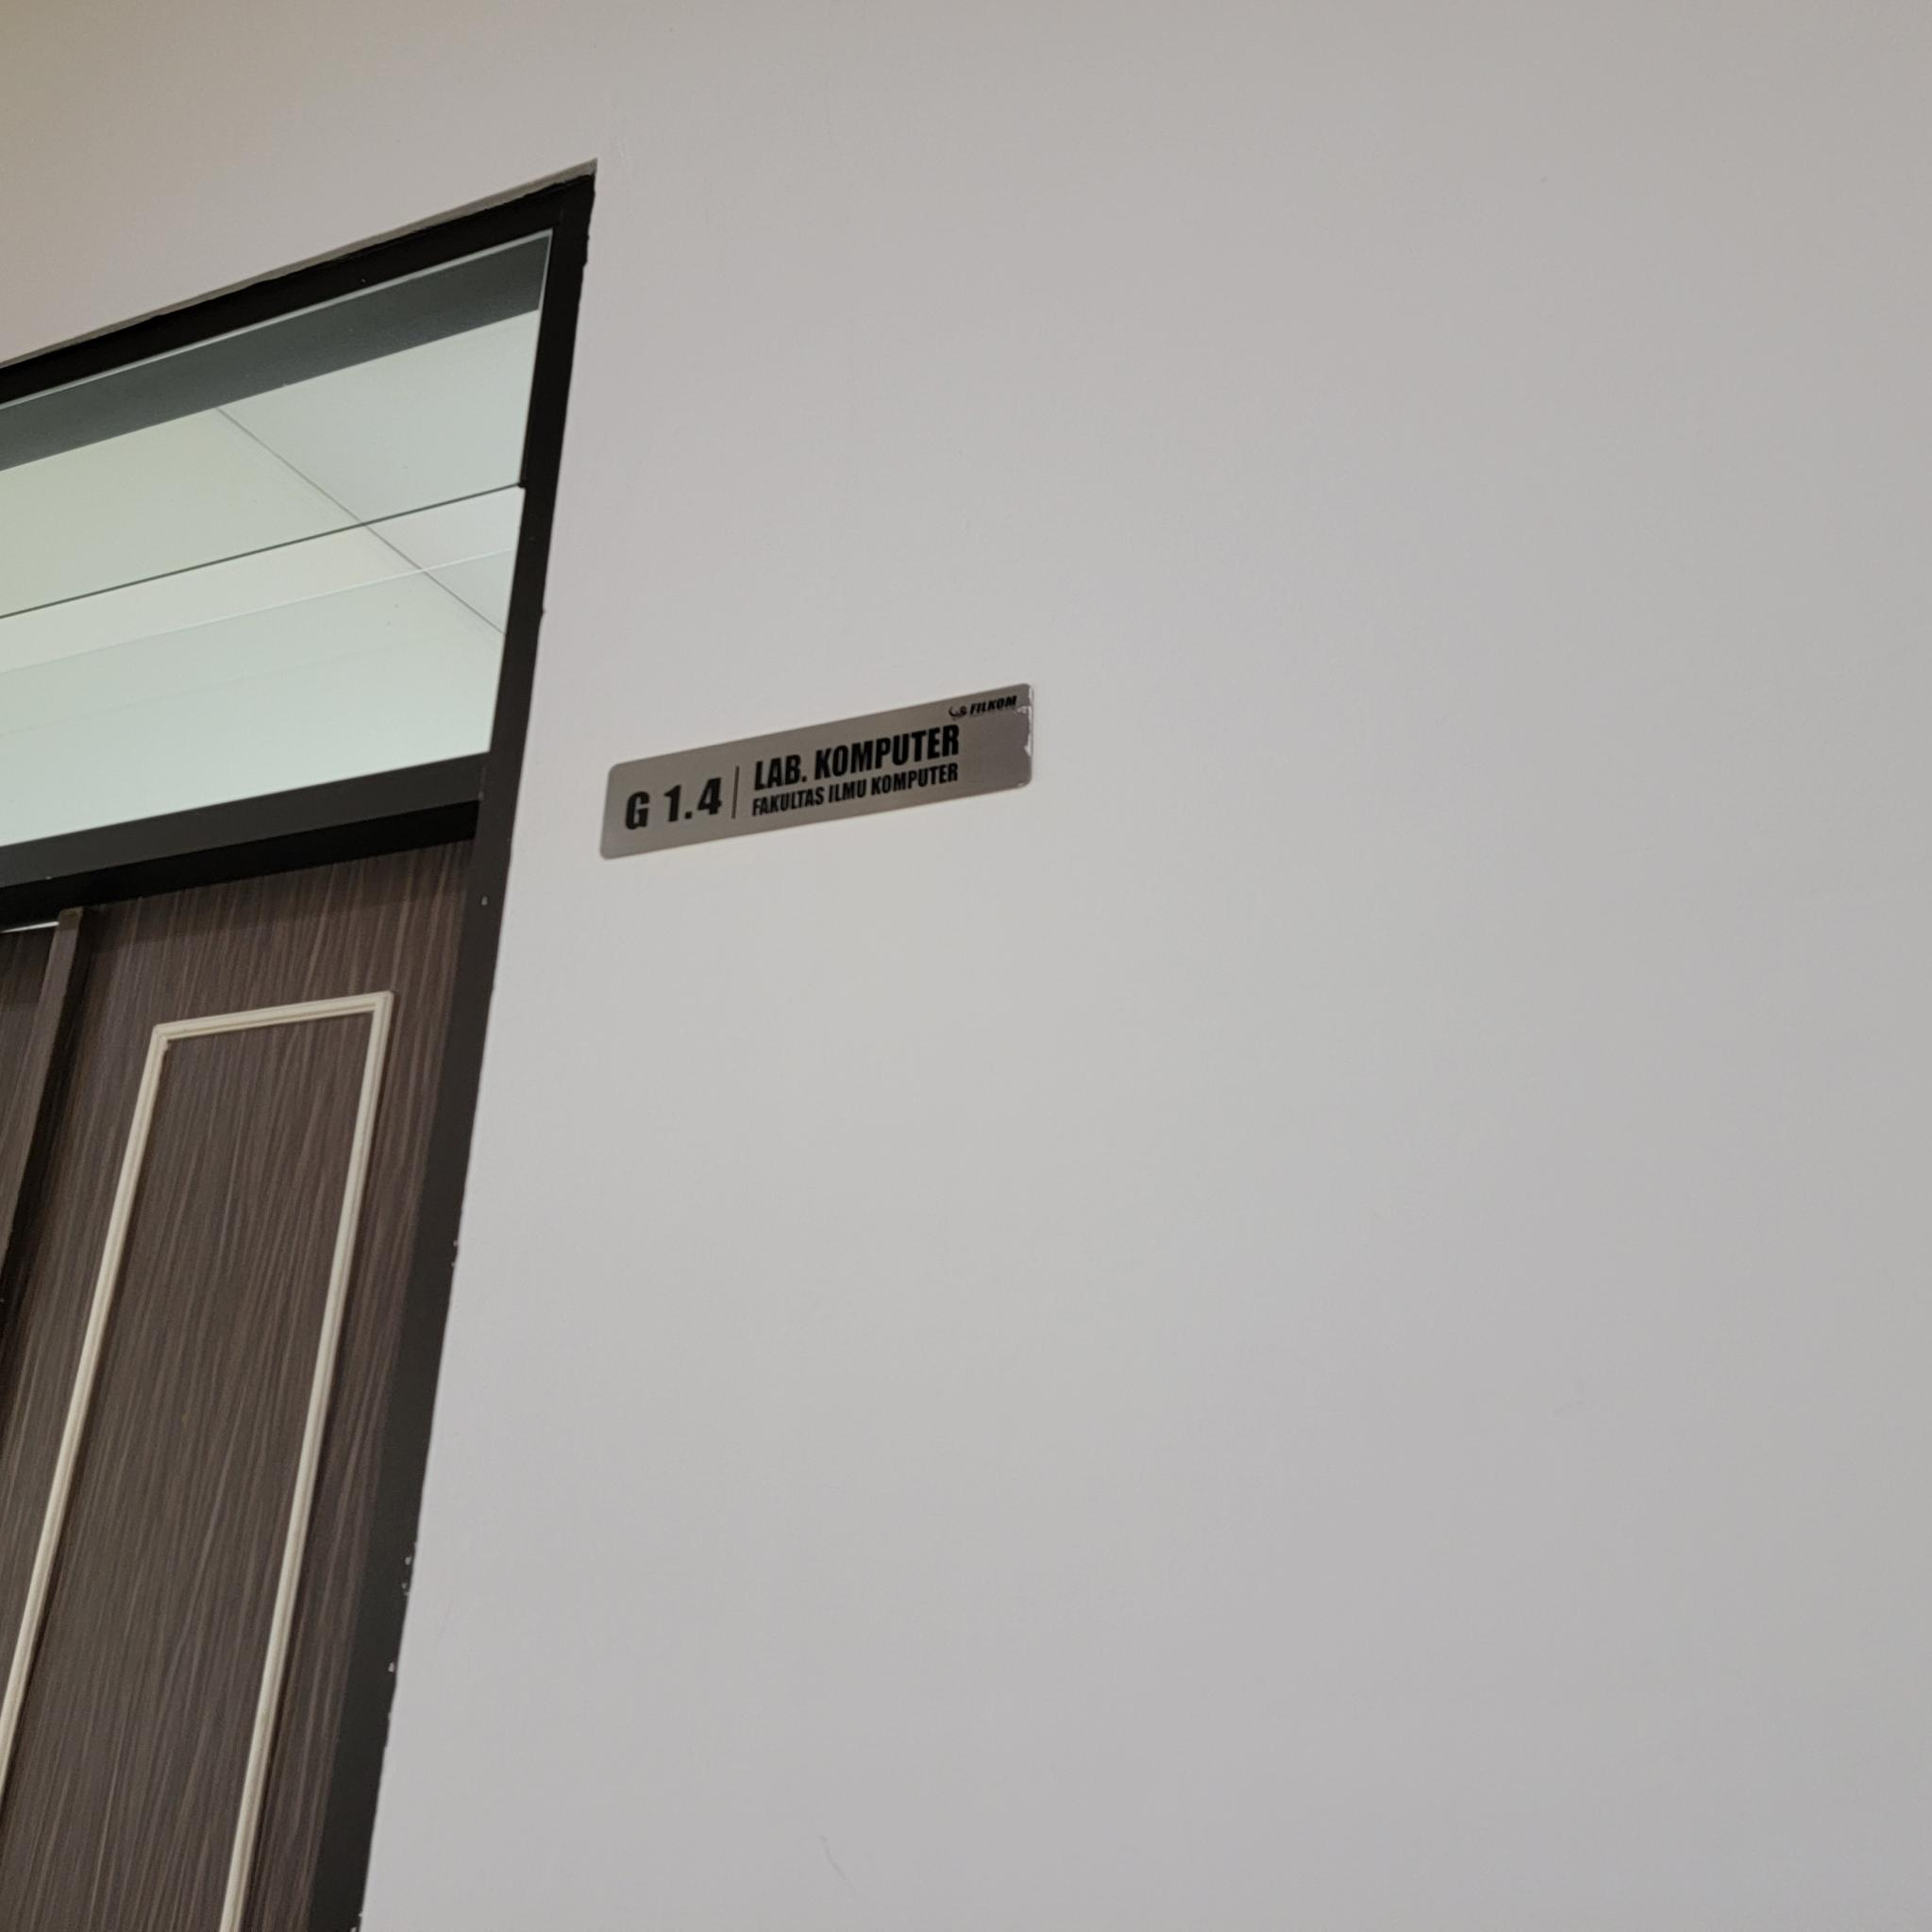plate: (600, 678, 1033, 860)
